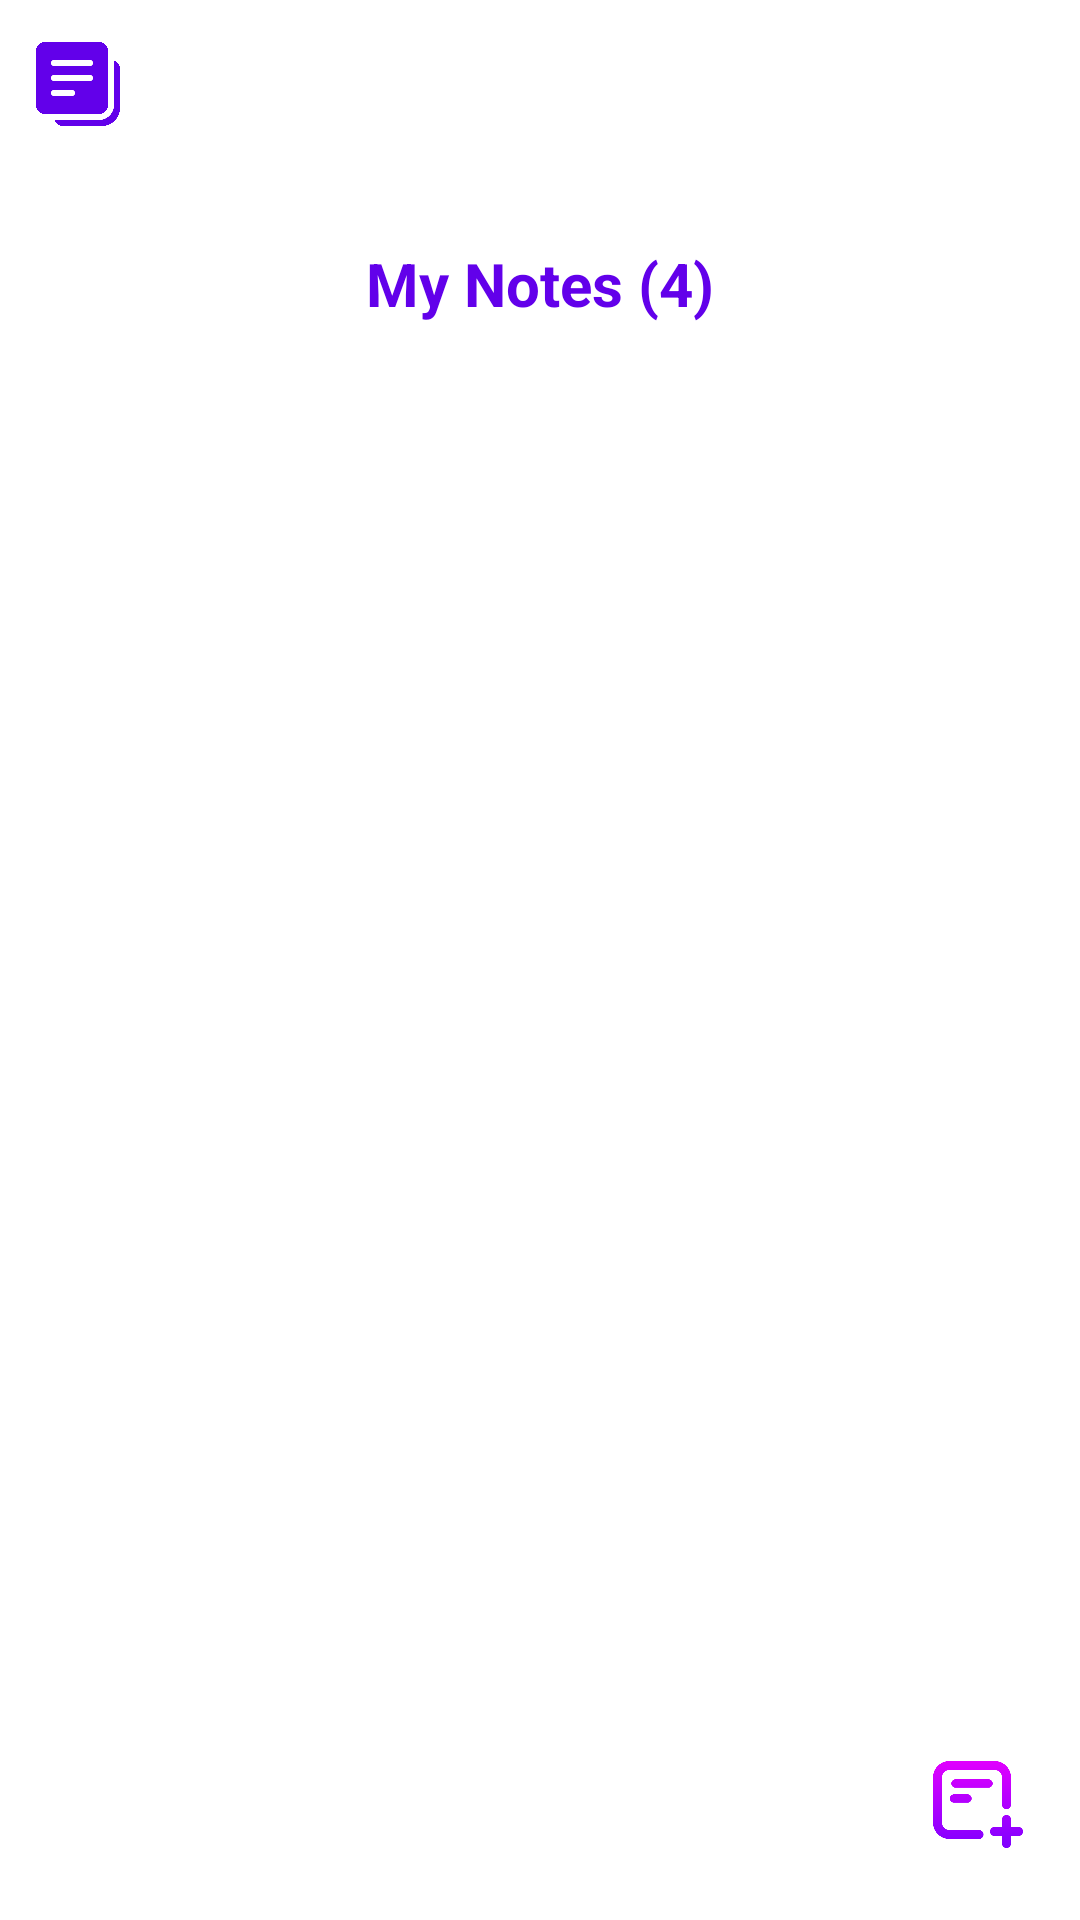

Where to tap for icons on this 1080x1920 app screen, as [x,y]:
add note: [978,1804]
note: [78,84]
